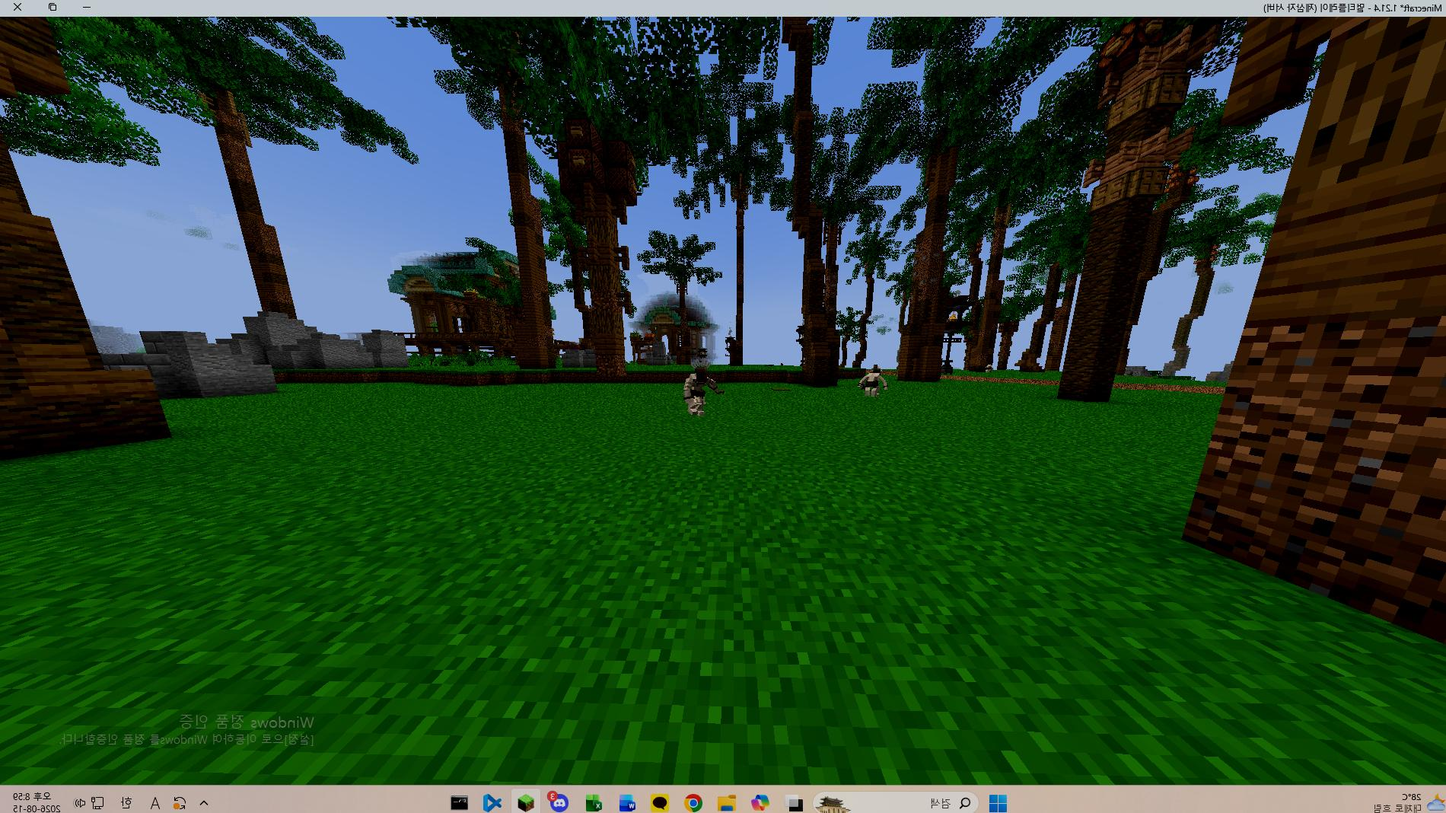bow_indian: (671, 357, 725, 418)
